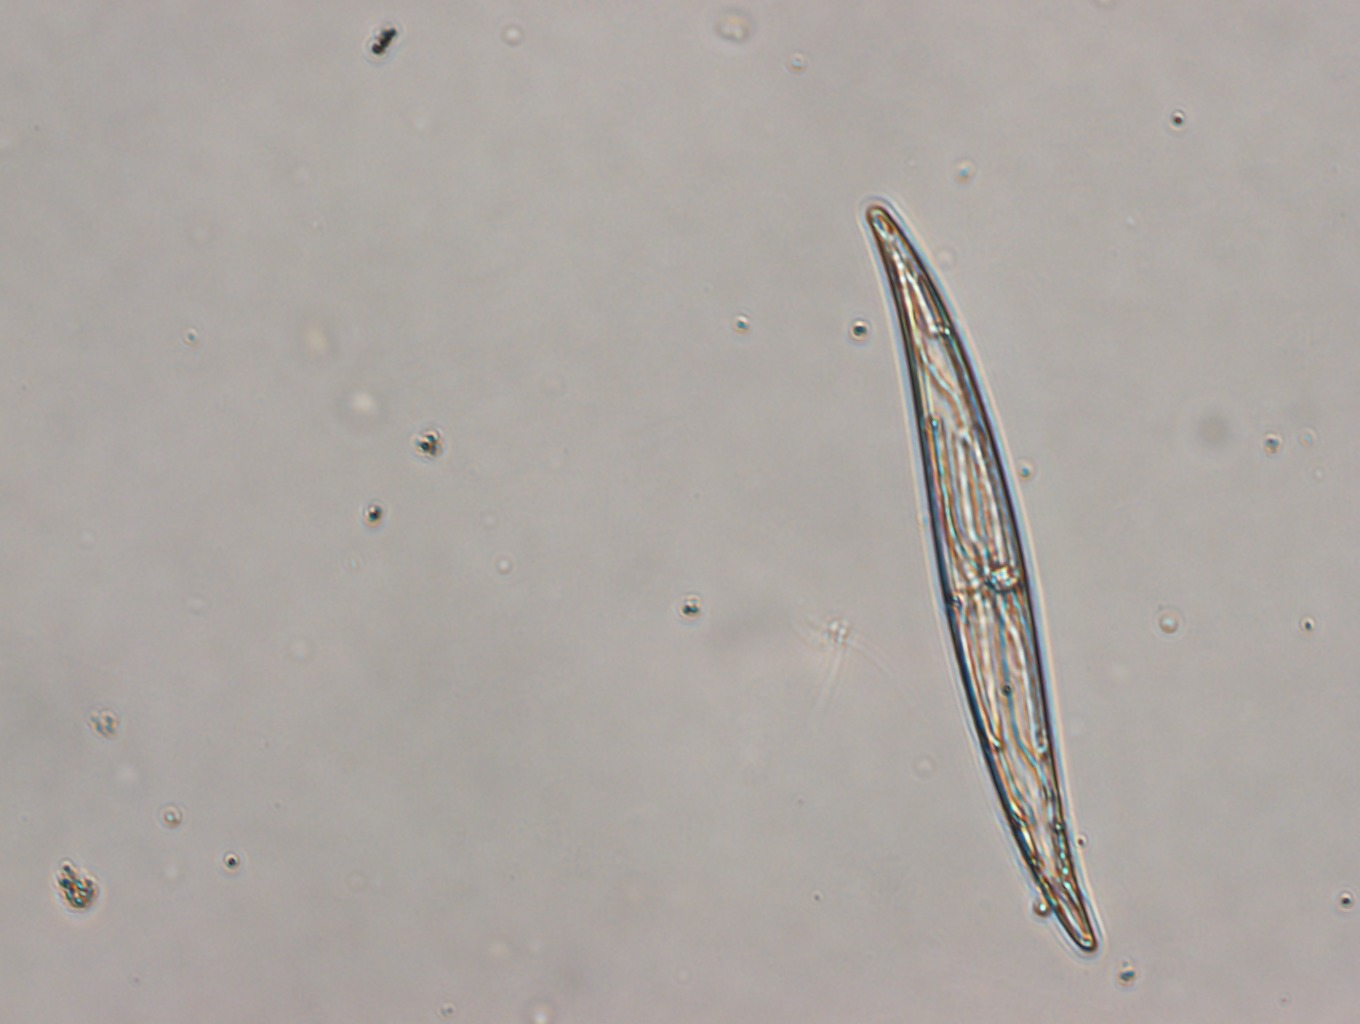pleurosigma pelagicum: (851, 185, 1110, 971)
